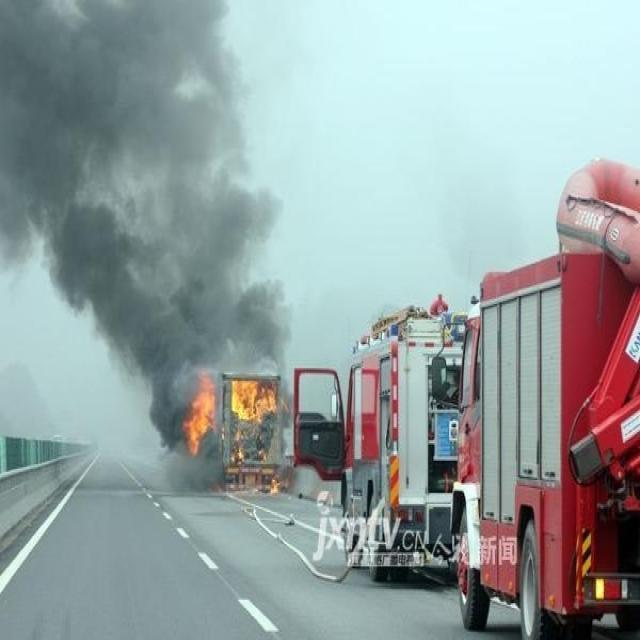Fire: (182, 373, 216, 456), (230, 378, 276, 424), (268, 476, 282, 494)
Smoke: (1, 1, 294, 498)
